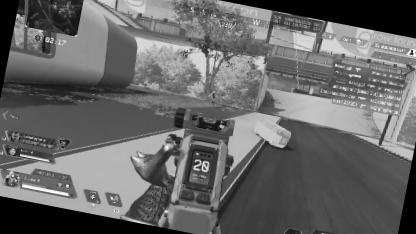Target: (206, 88, 218, 107)
